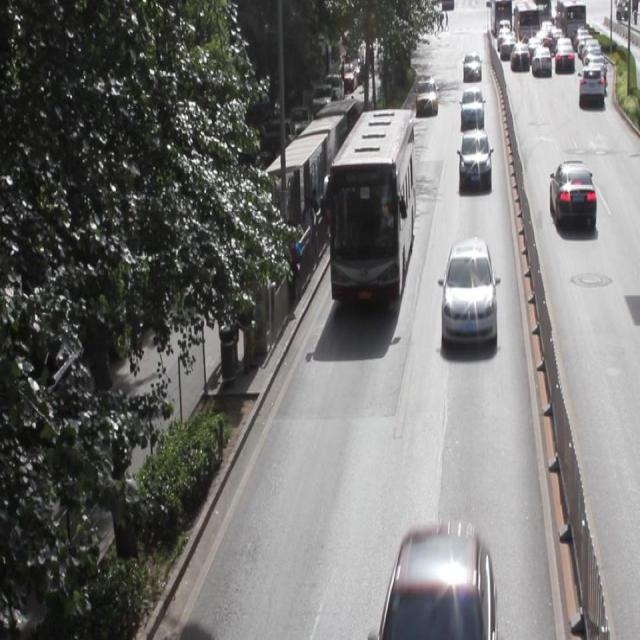car: (378, 527, 496, 640), (440, 240, 497, 348), (548, 160, 594, 232), (457, 130, 491, 185), (459, 86, 482, 125)
van: (329, 107, 416, 305)
